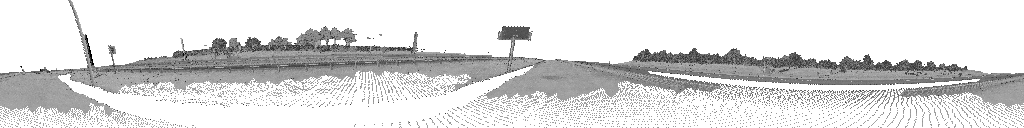light_pole: (68, 0, 95, 83)
